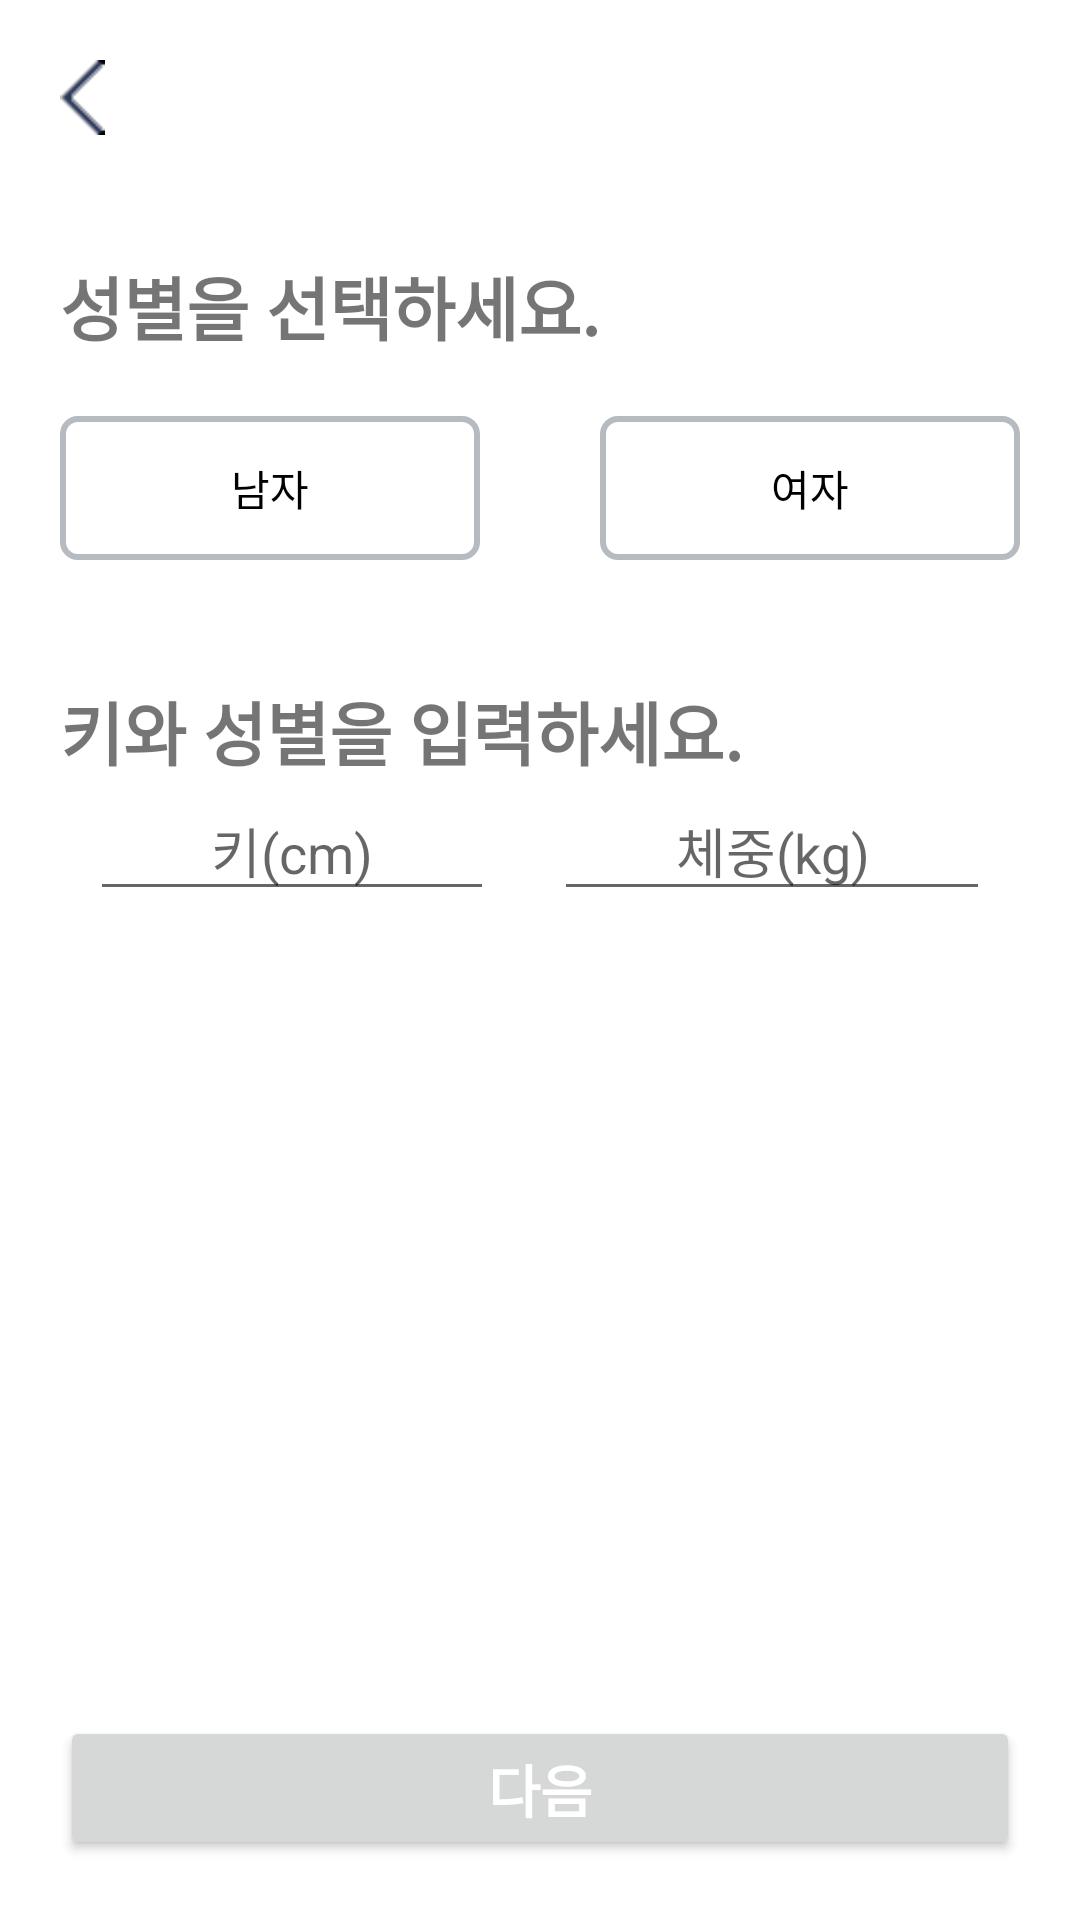

Icon click points for this 1080px x 1920px phone screenshot, format point (x, y):
backarrow: point (82, 97)
